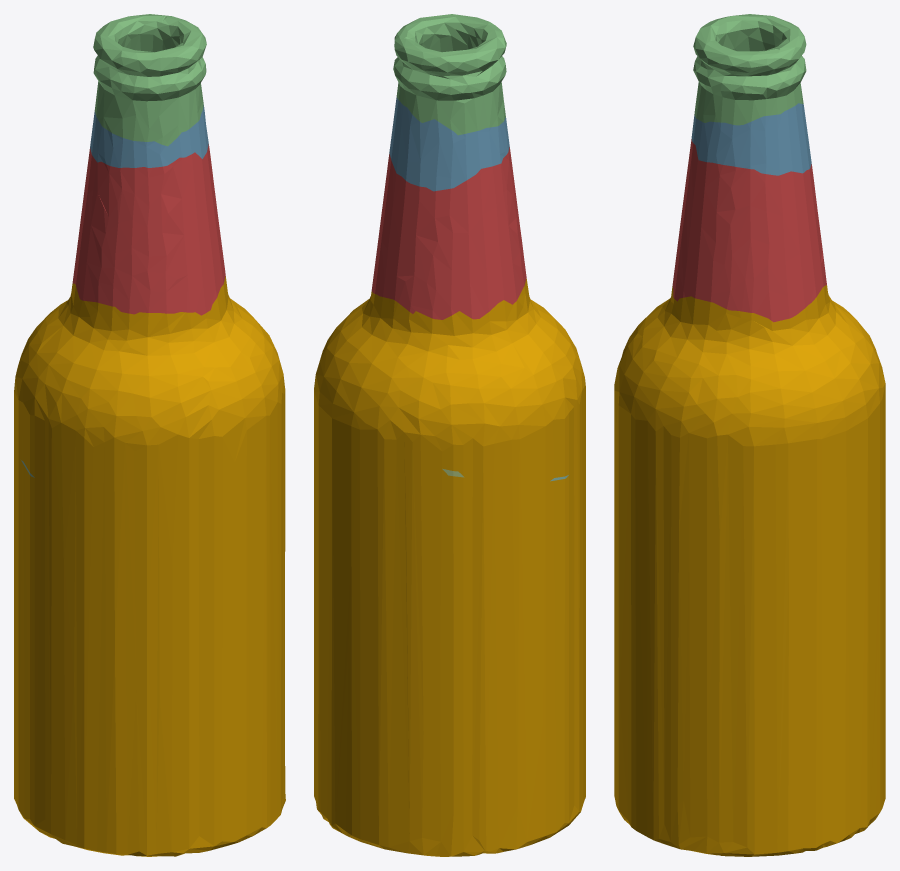
Rendered from fractured_10_6pcs.glb.
3 renders of one model, left to right at view 1: azimuth 30°, elevation 25°; view 2: azimuth 150°, elevation 25°; view 3: azimuth 270°, elevation 25°, orthographic.
Visible parts, largest first — view 1: piece_0.obj, piece_1.obj, piece_3.obj, piece_2.obj; view 2: piece_0.obj, piece_1.obj, piece_3.obj, piece_2.obj; view 3: piece_0.obj, piece_1.obj, piece_3.obj, piece_2.obj.
Boxes of the visible parts, x1,y1,x2,y2 form: piece_0.obj: (14, 276, 285, 856); piece_1.obj: (72, 144, 225, 315); piece_3.obj: (93, 14, 206, 146); piece_2.obj: (90, 105, 208, 167); piece_0.obj: (314, 278, 585, 856); piece_1.obj: (371, 147, 526, 319); piece_3.obj: (393, 14, 506, 135); piece_2.obj: (389, 97, 509, 191); piece_0.obj: (614, 285, 885, 856); piece_1.obj: (672, 139, 826, 322); piece_3.obj: (693, 14, 806, 125); piece_2.obj: (691, 103, 811, 175).
Size of the model in its own units: 0.3199 by 1 by 0.32.
